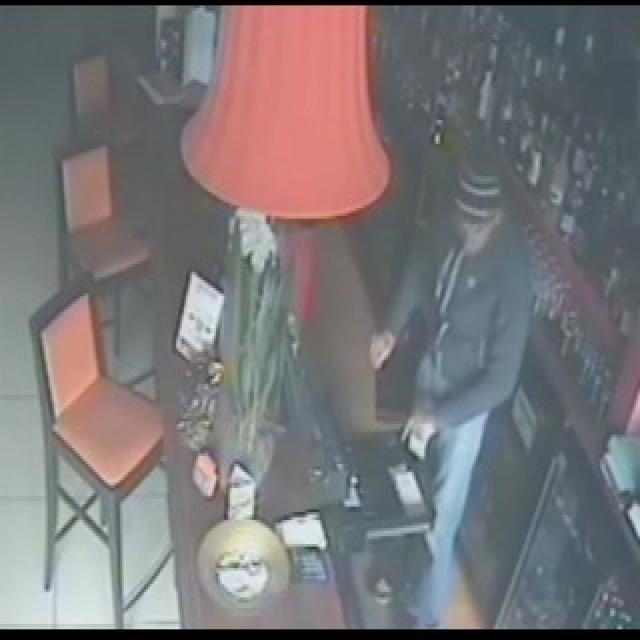thief: (417, 142, 534, 455)
